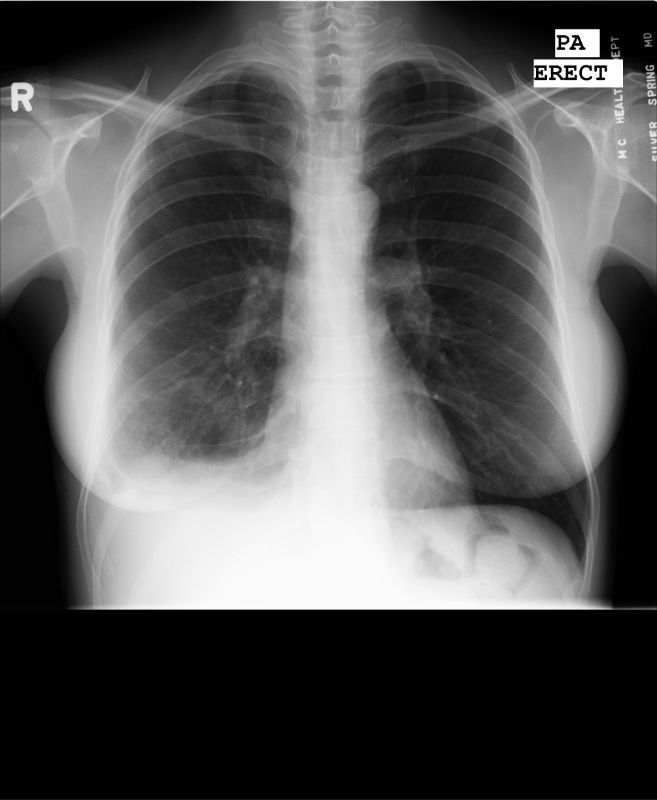Pleural Effusion: (73, 435, 216, 578)
